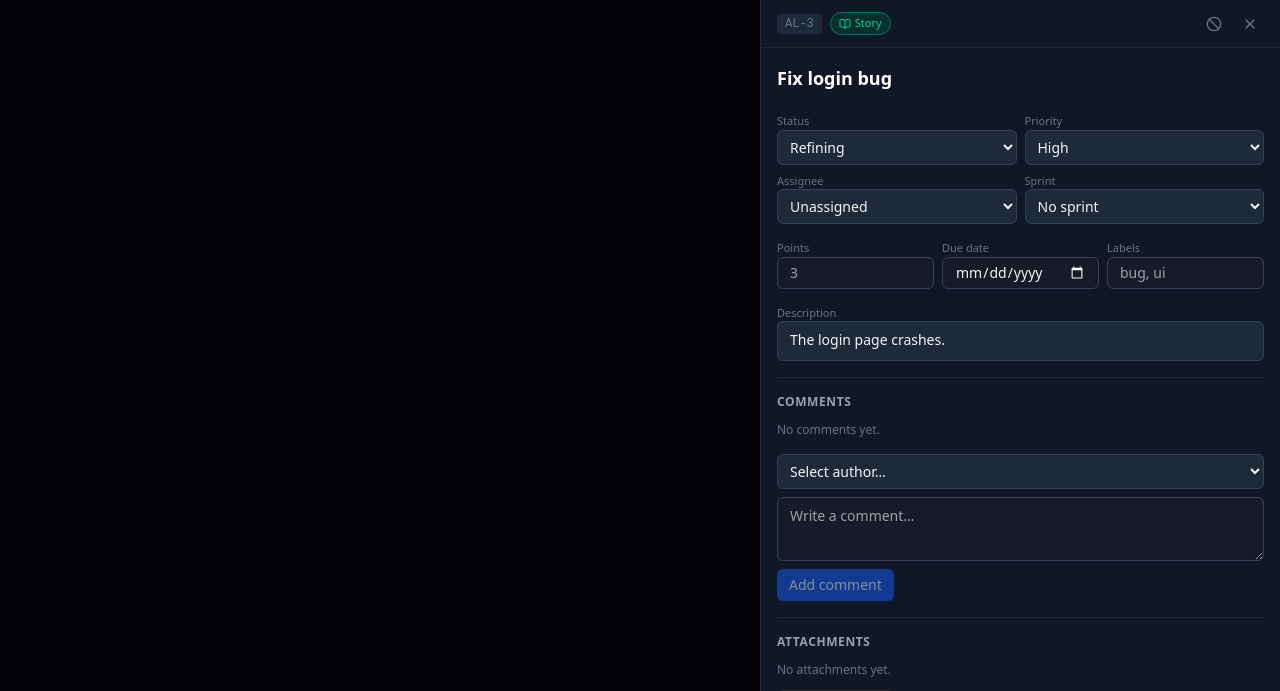
Test: TaskDetailPanel — cancel task (FB-3, FB-98) › on a factory-ladder Story, cancels and then reopens to backlog through update_task
Expected: the field showing "Fix login bug" is shown, [777,64,1264,97]
Click the button named "cancel subtask" at [1214, 24], box [1200,10,1228,38]
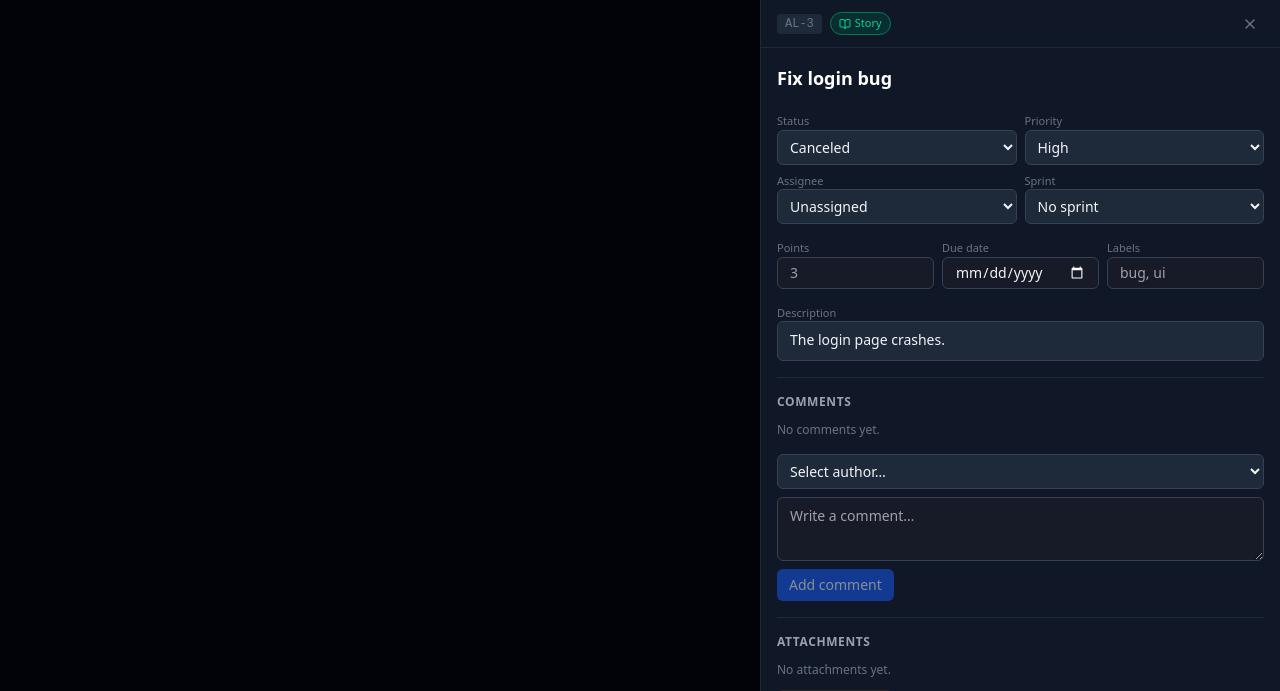
Now the dropdown named "Status" shows "Canceled"
Select "Backlog" in the dropdown named "Status" at [897, 147], box [777,130,1016,164]
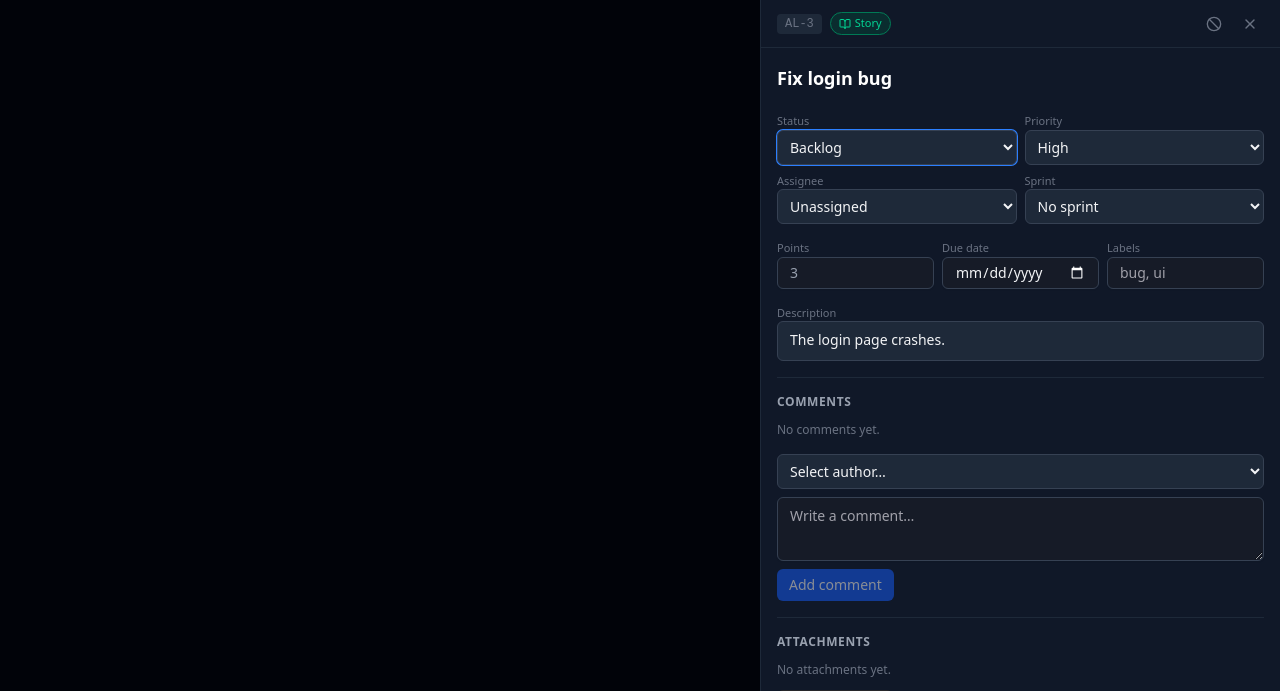
Now the button named "cancel subtask" is shown, box [1200,10,1228,38]
